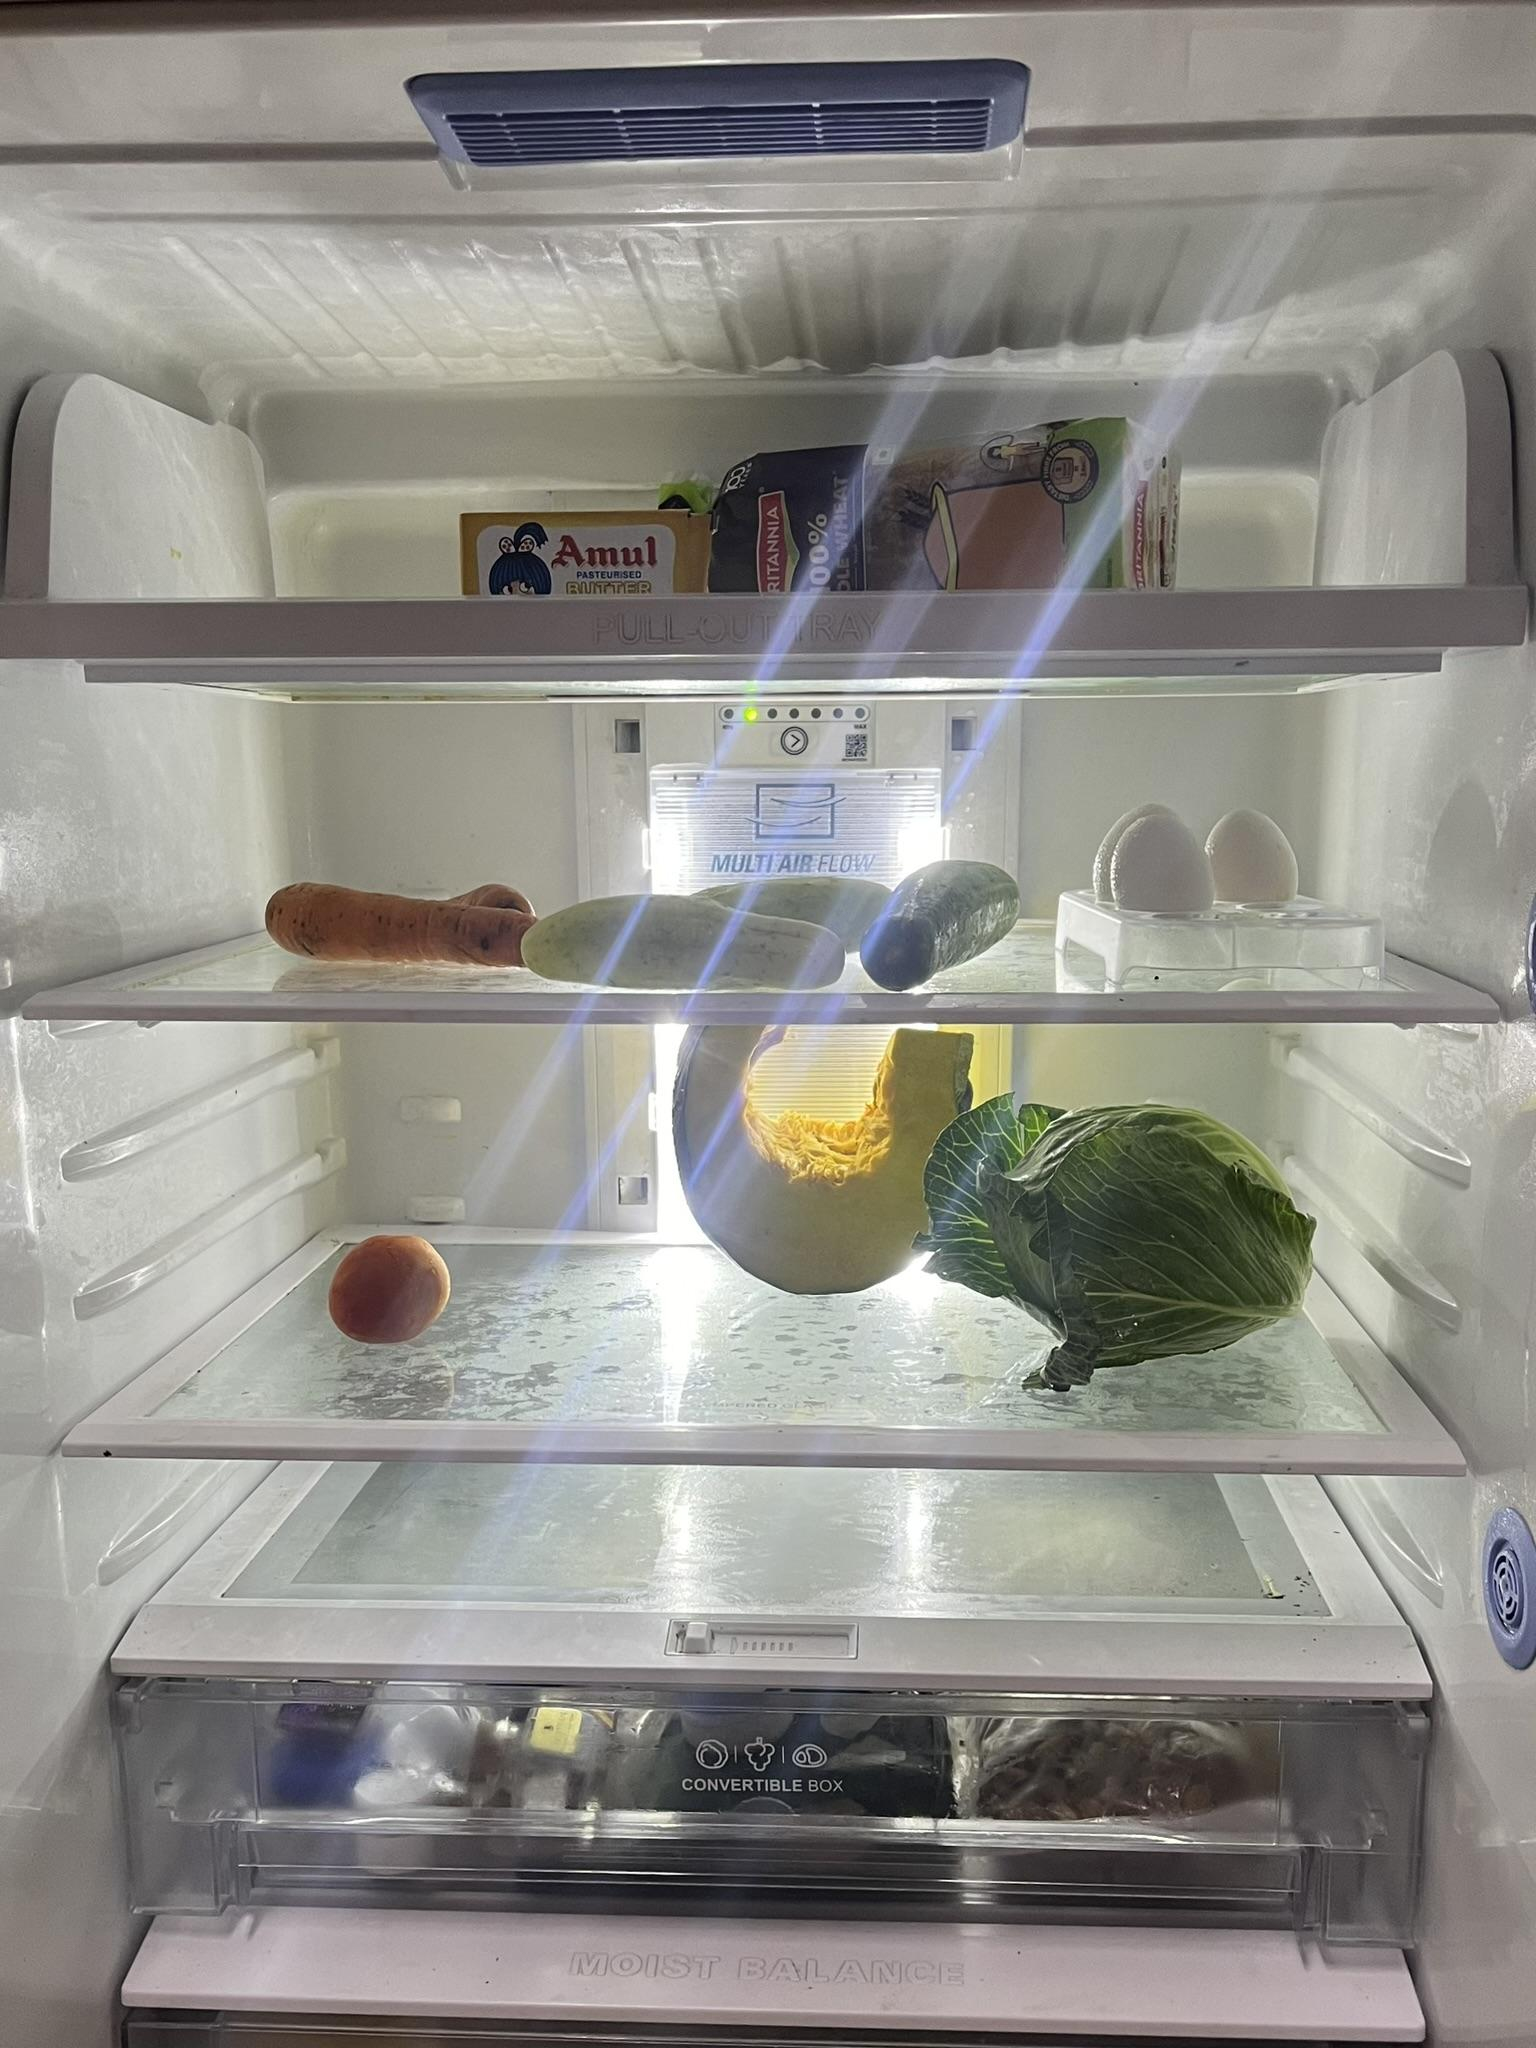bread: (657, 413, 1186, 587)
butter: (460, 503, 713, 593)
cabbage: (929, 1106, 1326, 1380)
carrots: (269, 866, 526, 966)
cucumber: (534, 850, 879, 990), (863, 847, 1023, 993)
egg: (1097, 787, 1307, 930)
pumpkin: (679, 1013, 979, 1303)
tomato: (331, 1224, 466, 1347)
